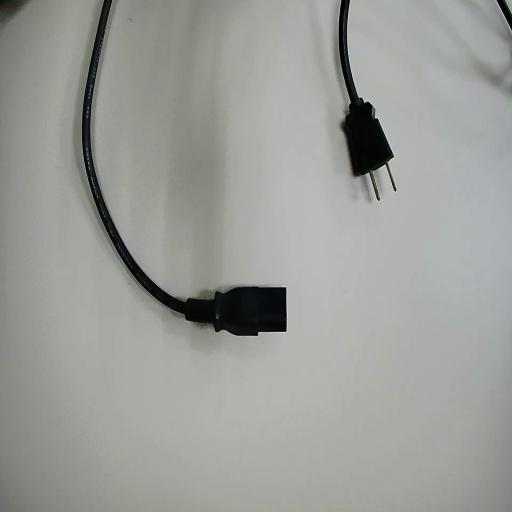wire: (82, 0, 285, 334), (339, 0, 391, 175)
